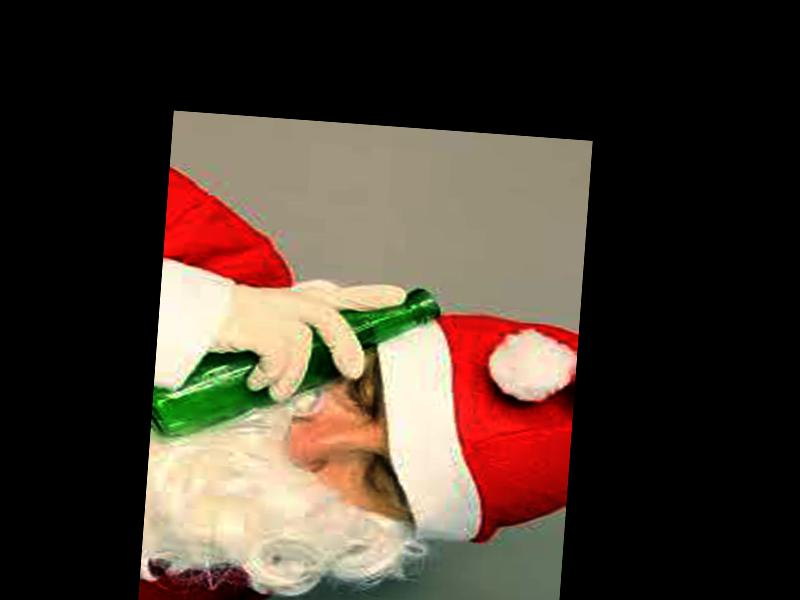Beer: (150, 268, 438, 452)
